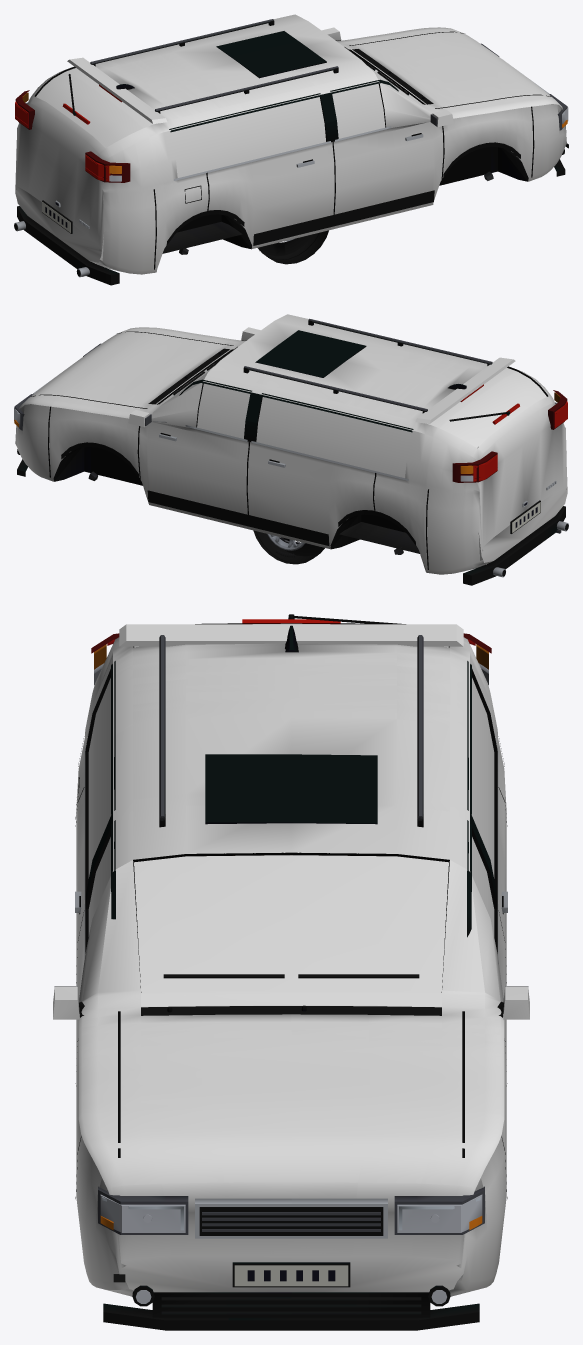
Rendered from suv-mid.glb.
3 views of the same model, one above another, from view 1: azimuth 30°, elevation 25°; view 2: azimuth 150°, elevation 25°; view 3: azimuth 270°, elevation 25° (orthographic). The views are drawn at different scales.
Parts seen in each view (by area): view 1: paint, detail, glass, wheel; view 2: paint, detail, glass, wheel; view 3: paint, detail, glass.
Boxes of the visible parts, x1,y1,x2,y2 form: paint: (15,14,566,274); detail: (14,19,568,285); glass: (36,66,422,177); wheel: (257,230,328,264); paint: (15,314,567,574); detail: (14,318,568,585); glass: (160,366,546,477); wheel: (253,530,324,564); paint: (53,624,529,1296); detail: (54,614,528,1330); glass: (88,623,494,1006).
Size of the model in its own units: 1.63 by 0.7074 by 0.7029.
